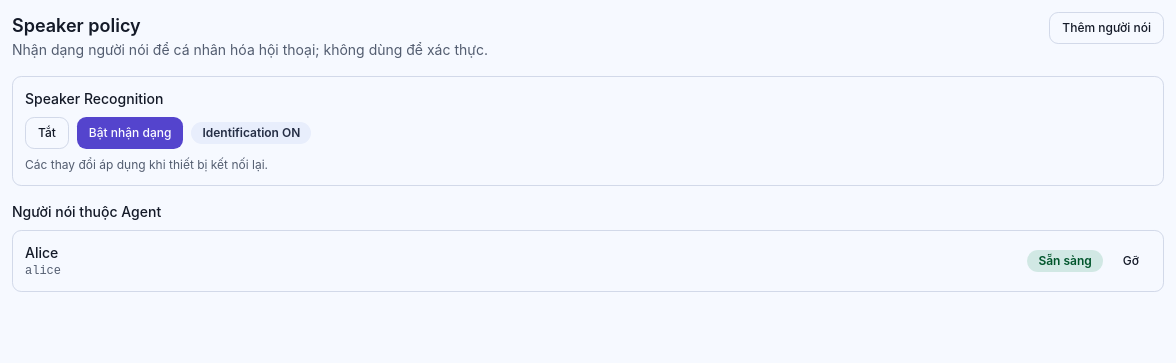
AgentSpeakerPolicy: identification only › handles a stale revision with refreshed Agent policy
Step 1. Click the button with test id "speaker-policy-mode-off" → {"x": 47, "y": 133}, box [25,117,69,149]
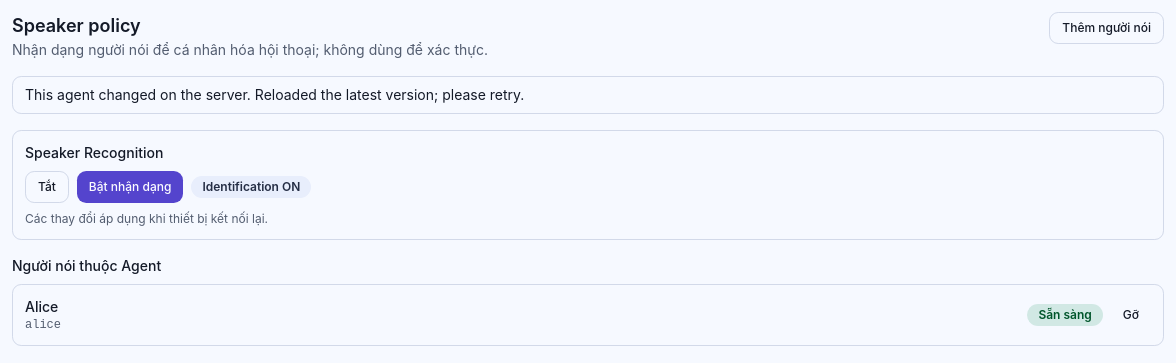
Expected: the message "This agent changed on the server. Reloaded the latest version; please retry." is shown, [12,76,1164,114]
